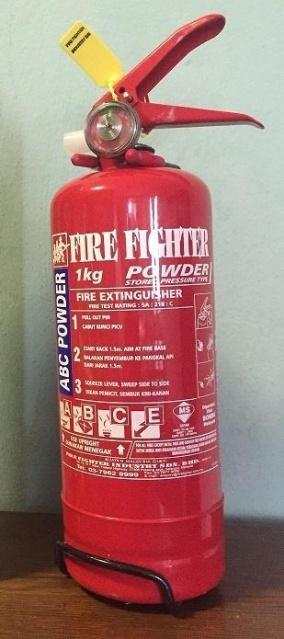APAR: (47, 12, 265, 605)
